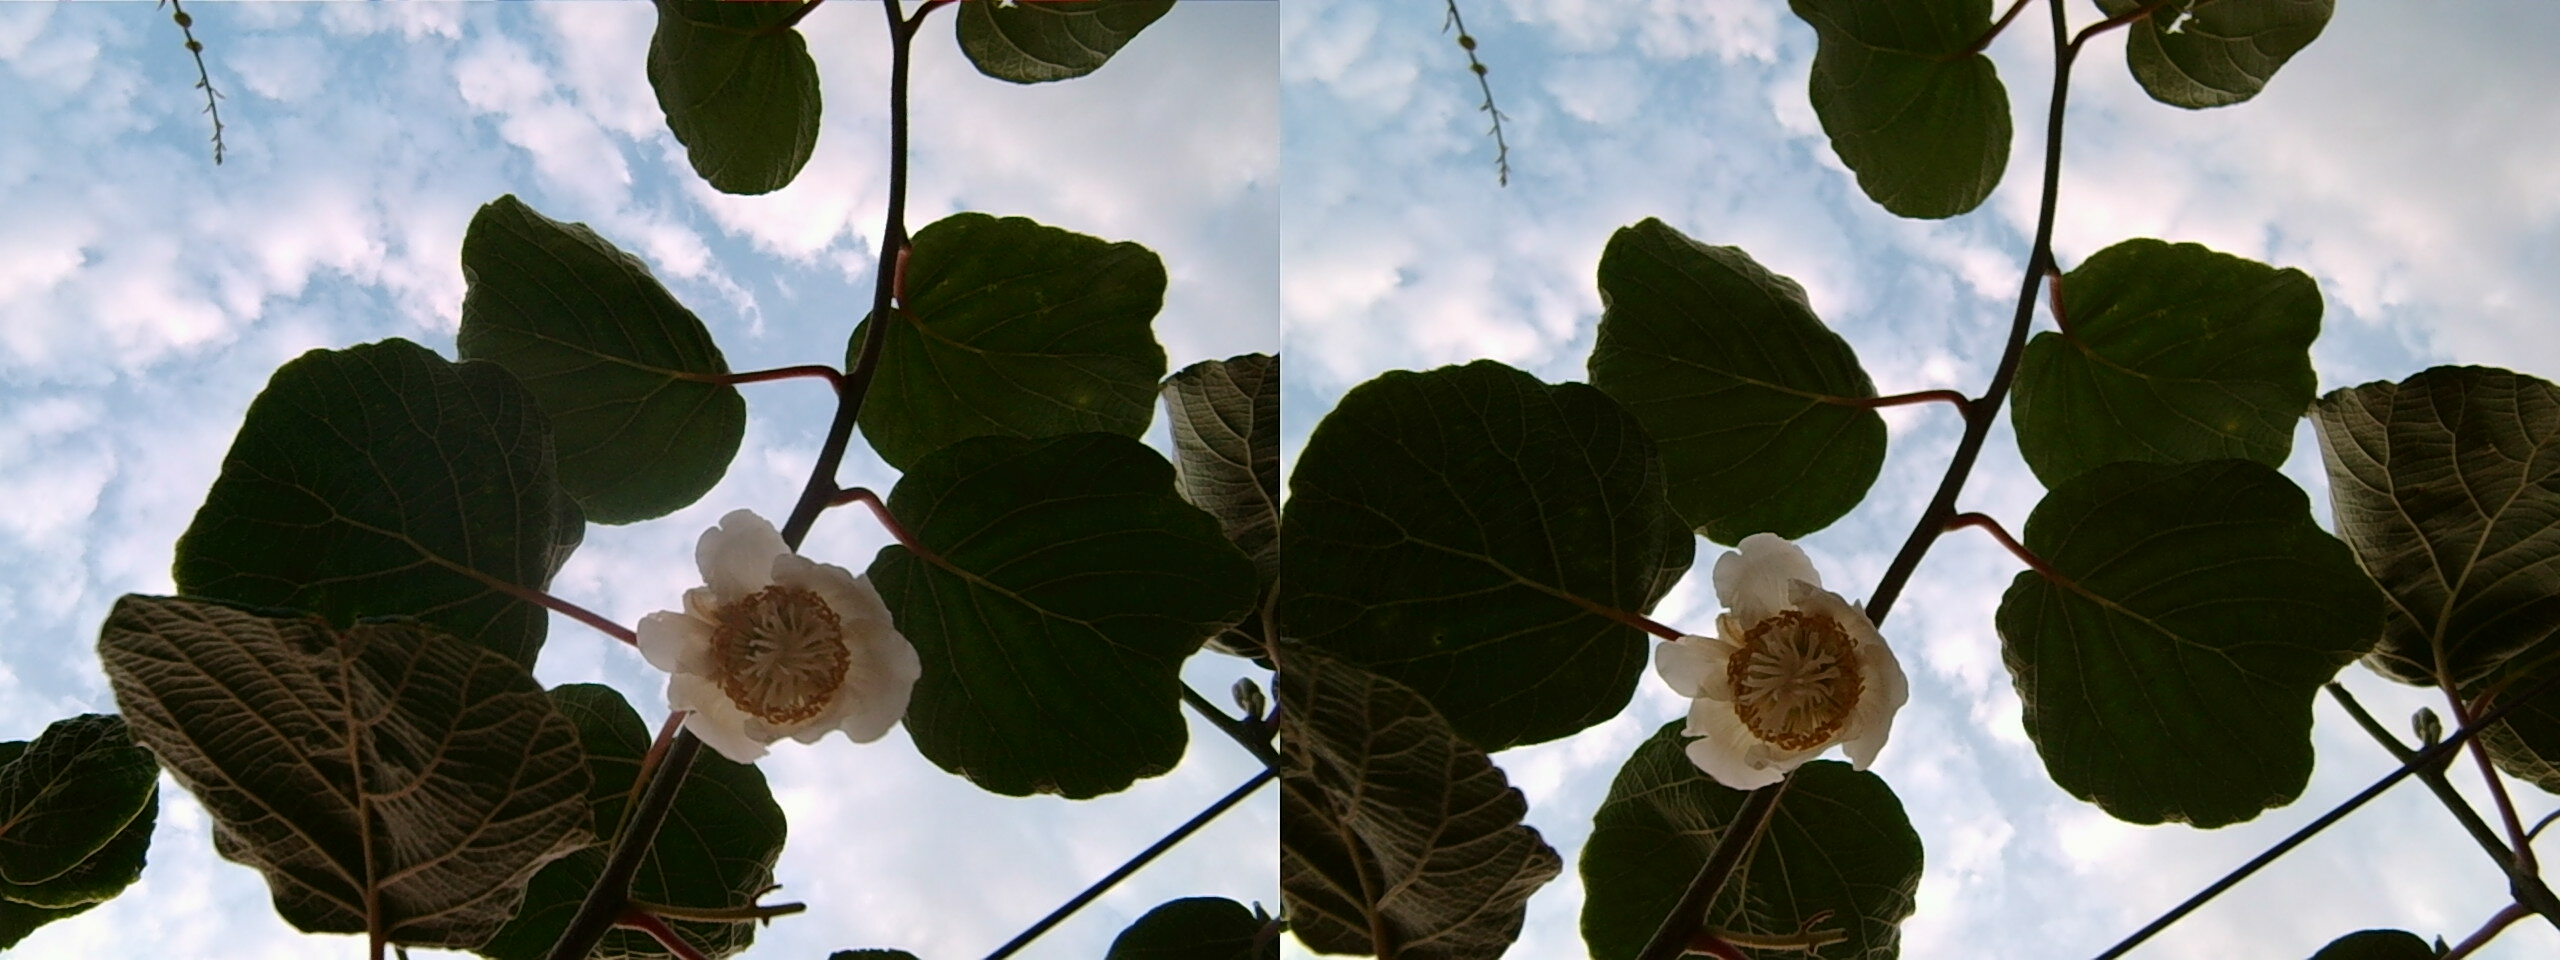flower: (645, 504, 904, 754), (1656, 534, 1897, 789)
